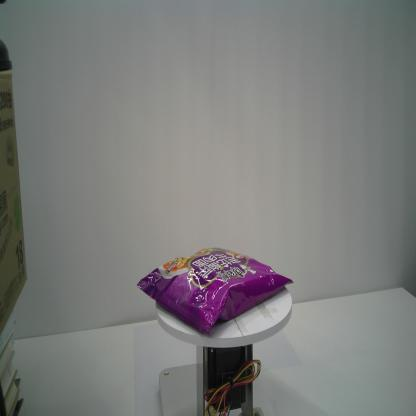Instant Noodles: (135, 244, 296, 338)
